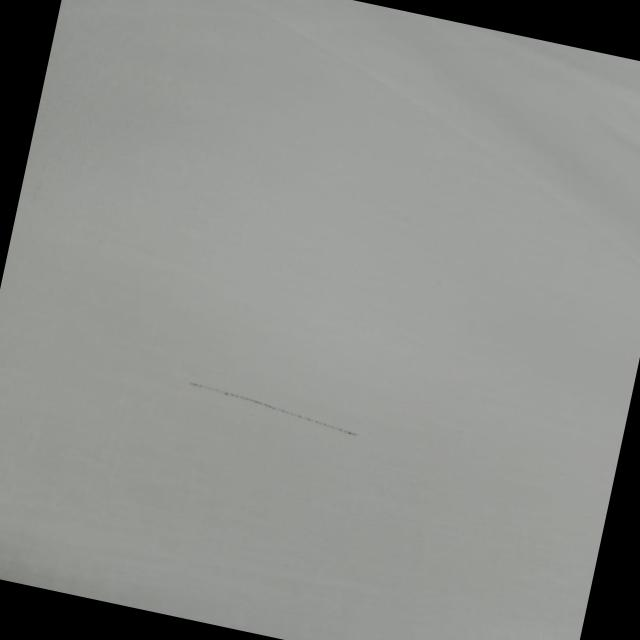contamination: (174, 370, 363, 442)
